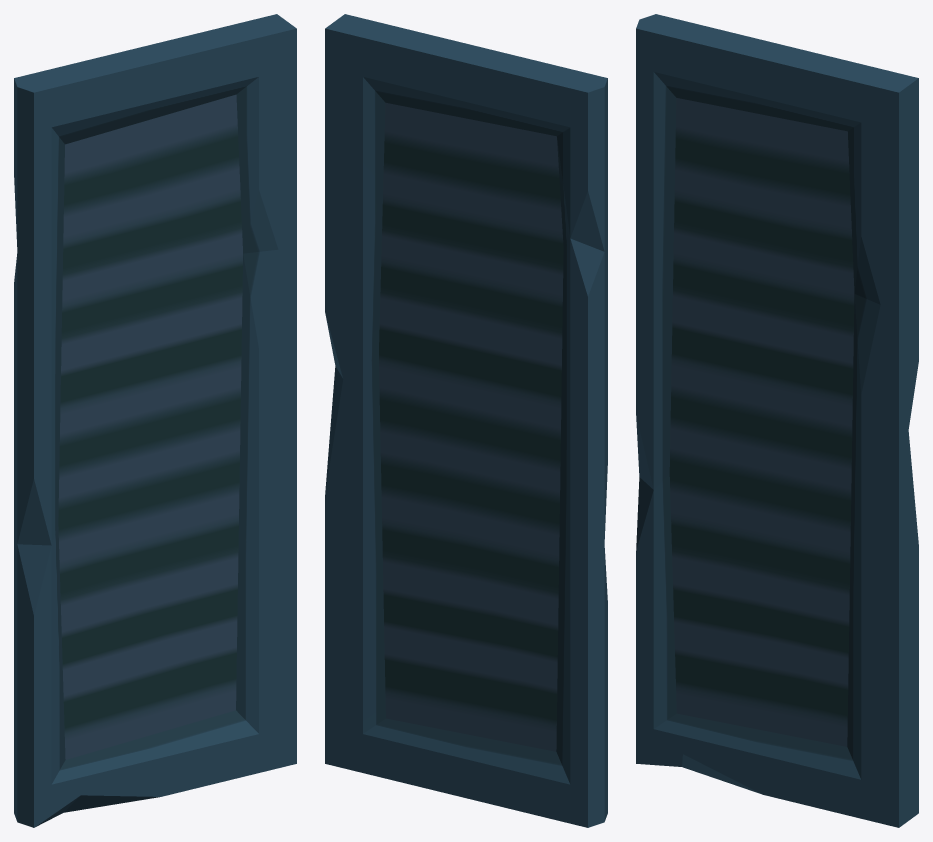
Rendered from SM_Bld_Village_Window_Shutter_R_01.glb.
3 renders of one model, left to right at view 1: azimuth 30°, elevation 25°; view 2: azimuth 150°, elevation 25°; view 3: azimuth 330°, elevation 25°, orthographic.
Parts seen in each view (by area): view 1: SM_Bld_Village_Window_Shutter_R_01; view 2: SM_Bld_Village_Window_Shutter_R_01; view 3: SM_Bld_Village_Window_Shutter_R_01.
Part boxes in pixels (x1=…): SM_Bld_Village_Window_Shutter_R_01: x1=14, y1=14, x2=296, y2=827; SM_Bld_Village_Window_Shutter_R_01: x1=325, y1=14, x2=607, y2=827; SM_Bld_Village_Window_Shutter_R_01: x1=636, y1=14, x2=918, y2=827.
Bounding box in the file's own units: 0.6888 × 1.8 × 0.0879.
1 material, 1 textured.
